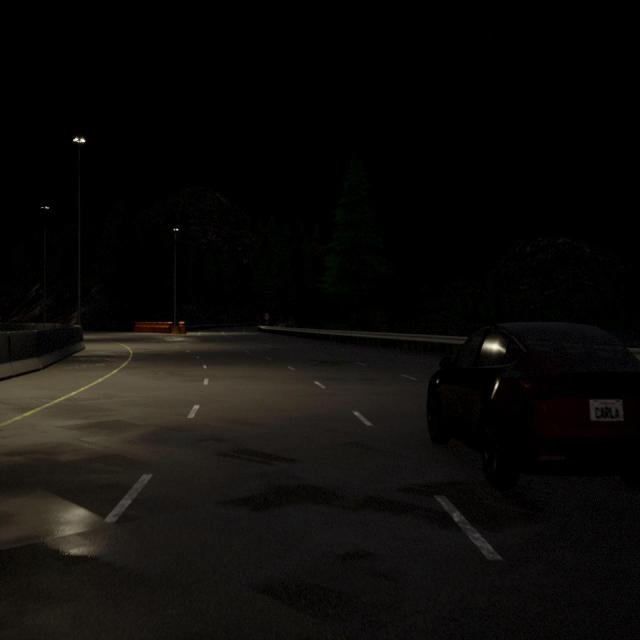Traffic_Signs: (264, 313, 268, 319)
Vehicle: (426, 323, 638, 486)
